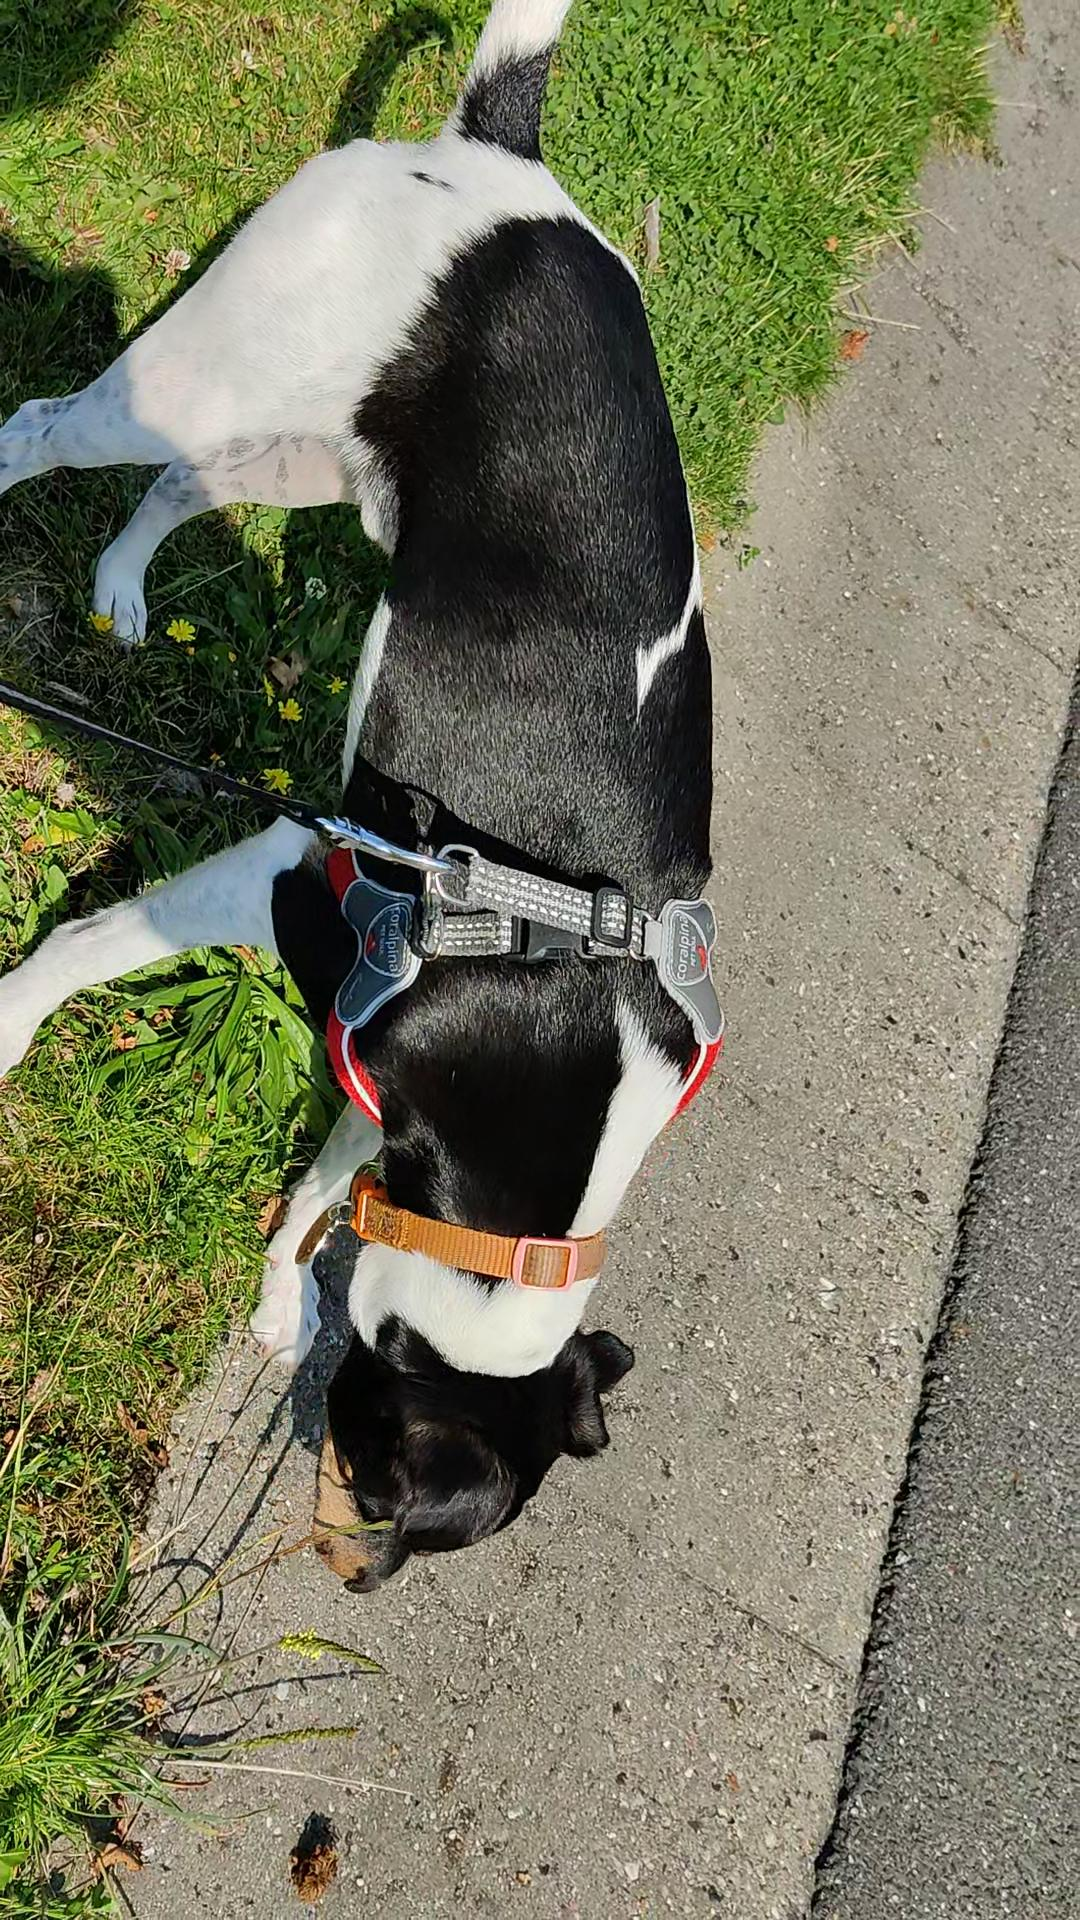Dog: (0, 0, 729, 1597)
